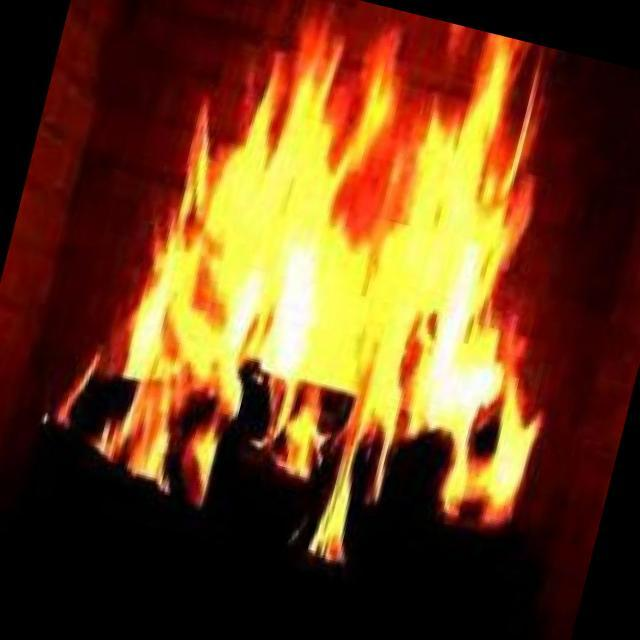Fire: (116, 1, 566, 488)
